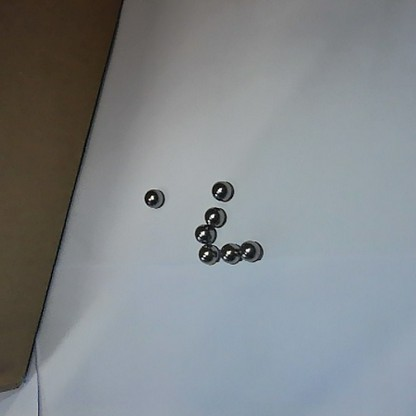ironball: (239, 236, 265, 264), (209, 176, 237, 200), (141, 186, 168, 209), (193, 242, 220, 265), (219, 239, 242, 264), (192, 223, 219, 243), (204, 205, 227, 228)
